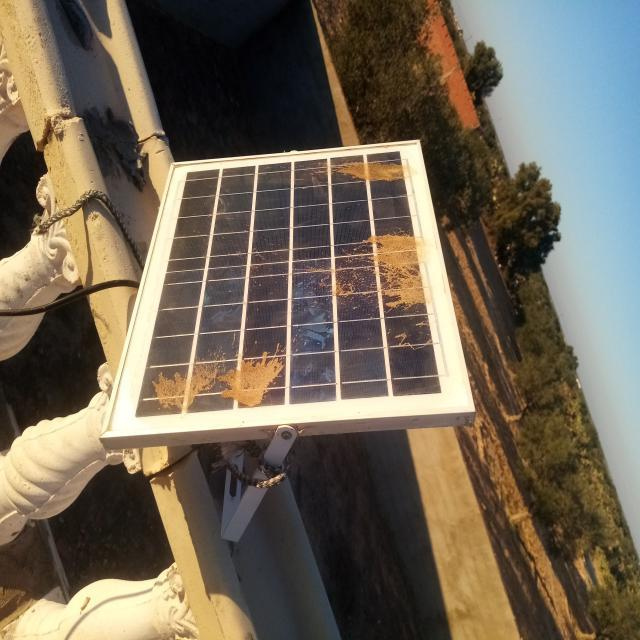faulty: (102, 140, 473, 432)
